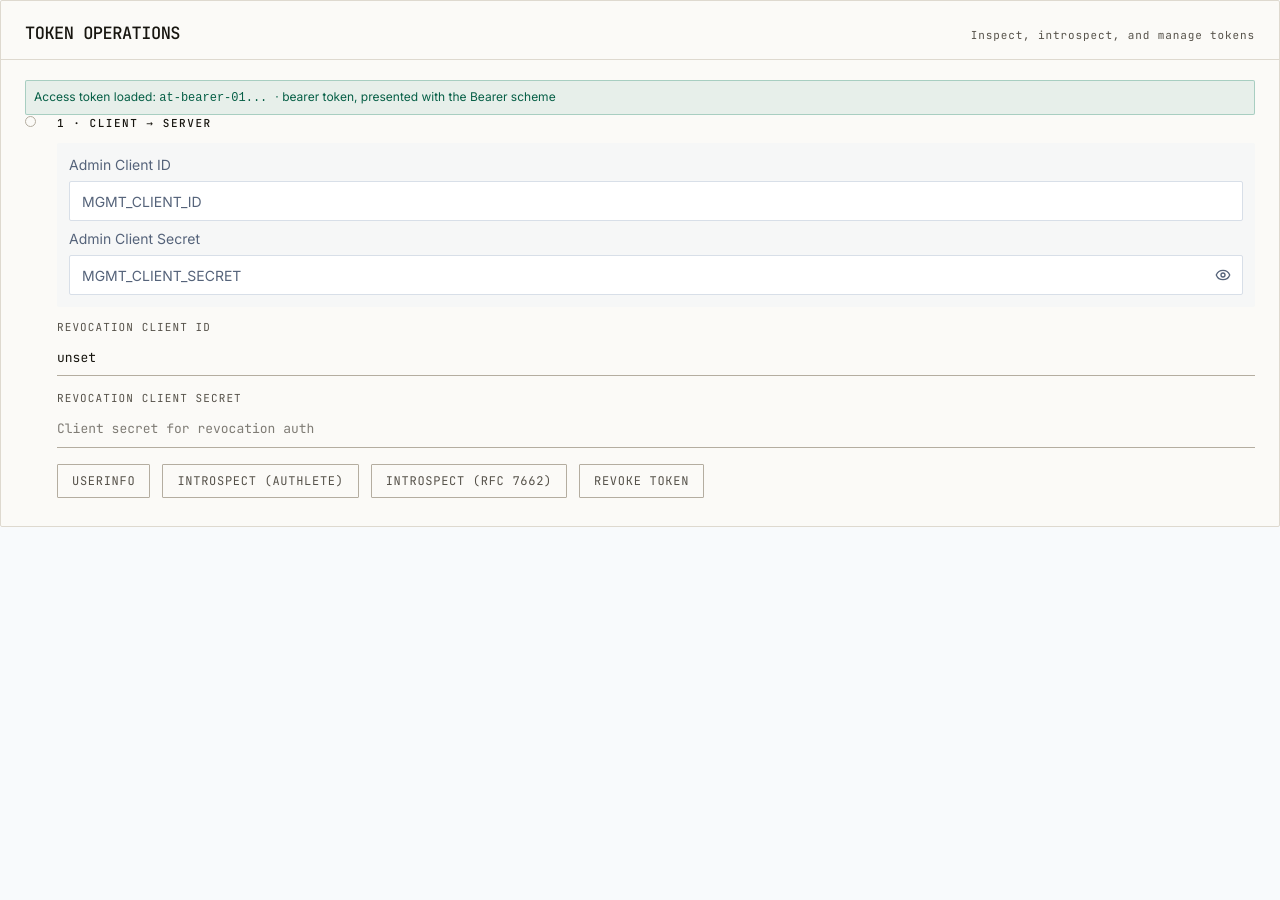
Test case: TokenOpsSection — presenting the token the way it requires › presents a bearer token with the Bearer scheme
The image size is (1280, 900).
Click the button "UserInfo": point(104, 481) x1=57 y1=464 x2=150 y2=498
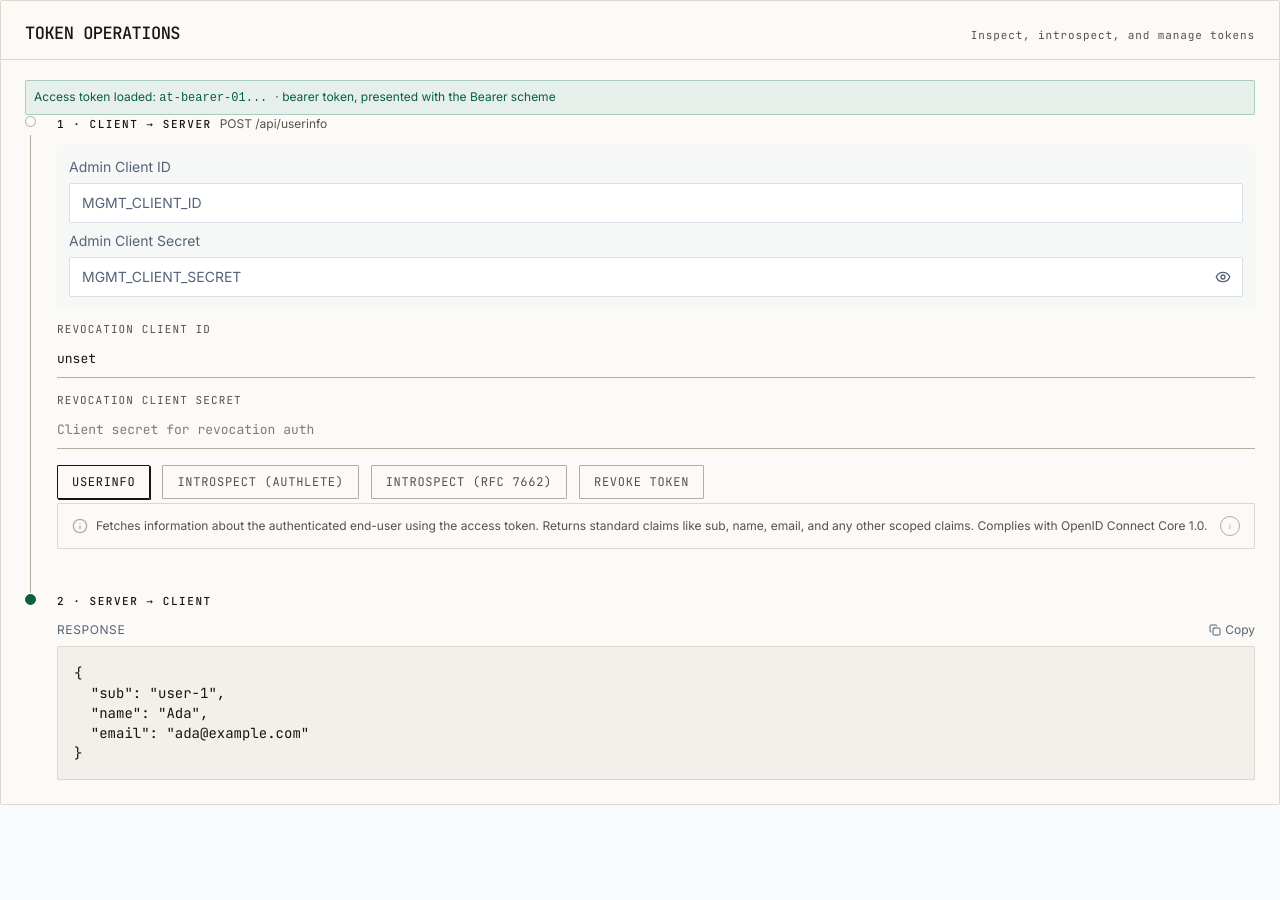
Expected: the text "ada@example.com" is shown, x1=74 y1=664 x2=309 y2=762
